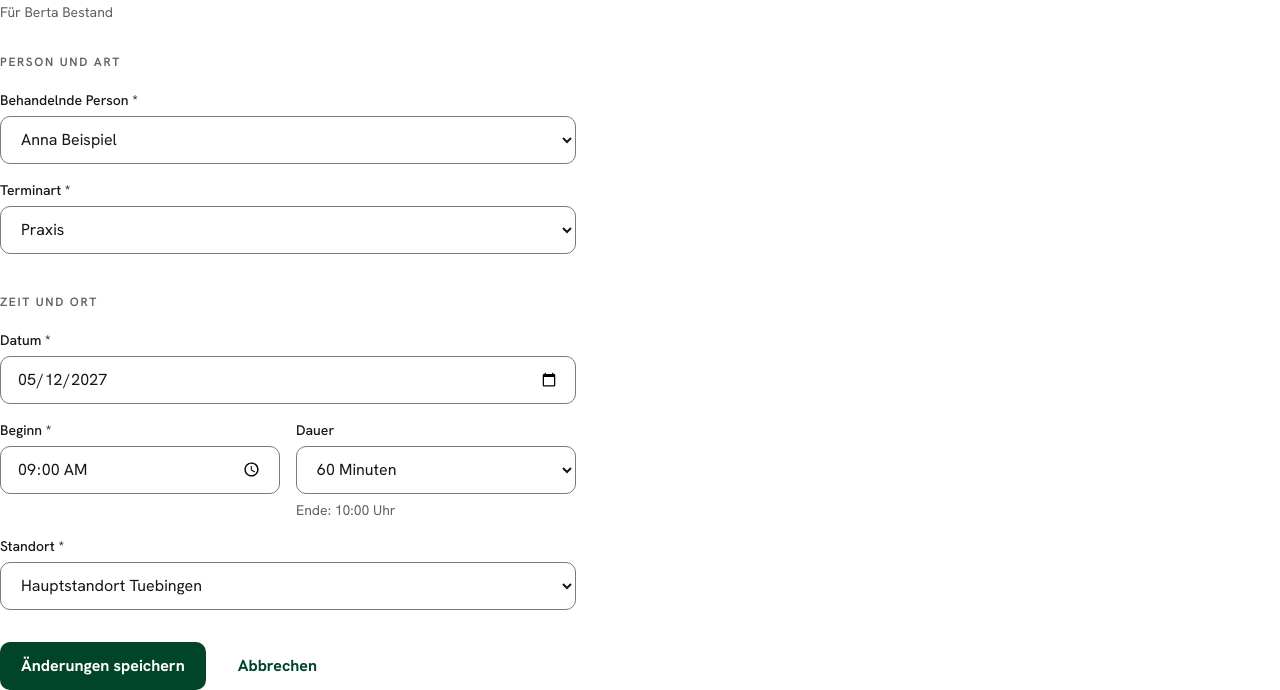
Test: EditAppointmentPage › zeigt einen Bearbeitungskonflikt verstaendlich an
(page scrolled)
Click the button "Änderungen speichern" at (103,666), box x1=0 y1=642 x2=206 y2=689
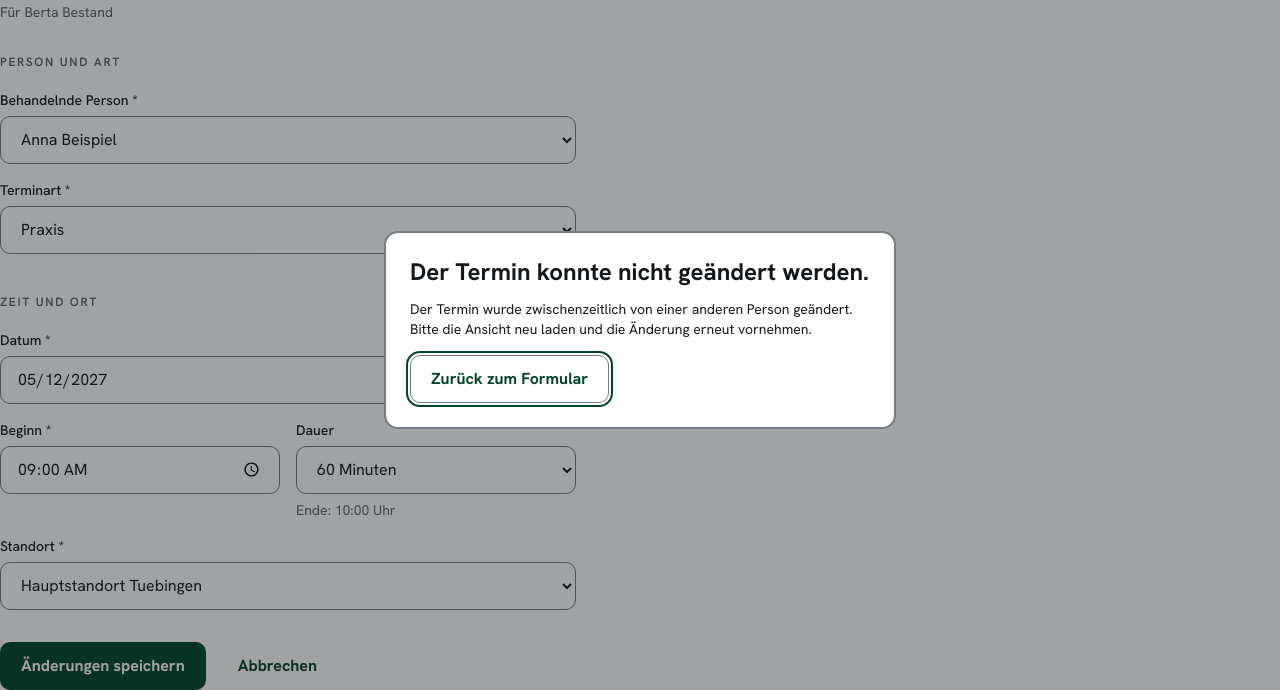
Expected: the text "zwischenzeitlich von einer anderen Person" is shown, x1=410 y1=300 x2=853 y2=338
